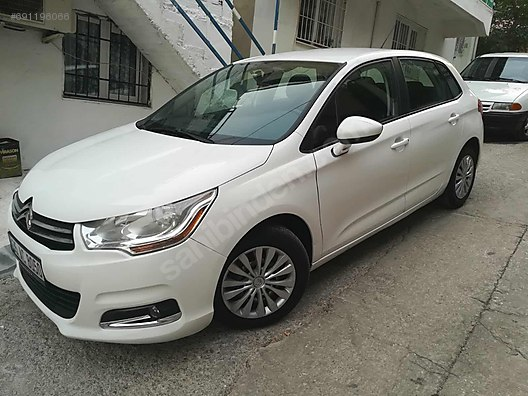citroen: (5, 43, 489, 349)
